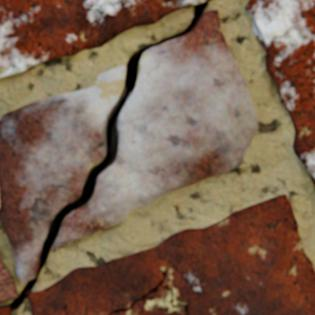brick: (28, 194, 314, 314), (0, 0, 212, 79), (245, 0, 314, 187), (110, 283, 186, 314), (0, 255, 18, 302), (0, 306, 11, 314)
broken_brick: (51, 11, 256, 249), (0, 66, 125, 282)
crack: (0, 1, 207, 312), (108, 268, 187, 314)
